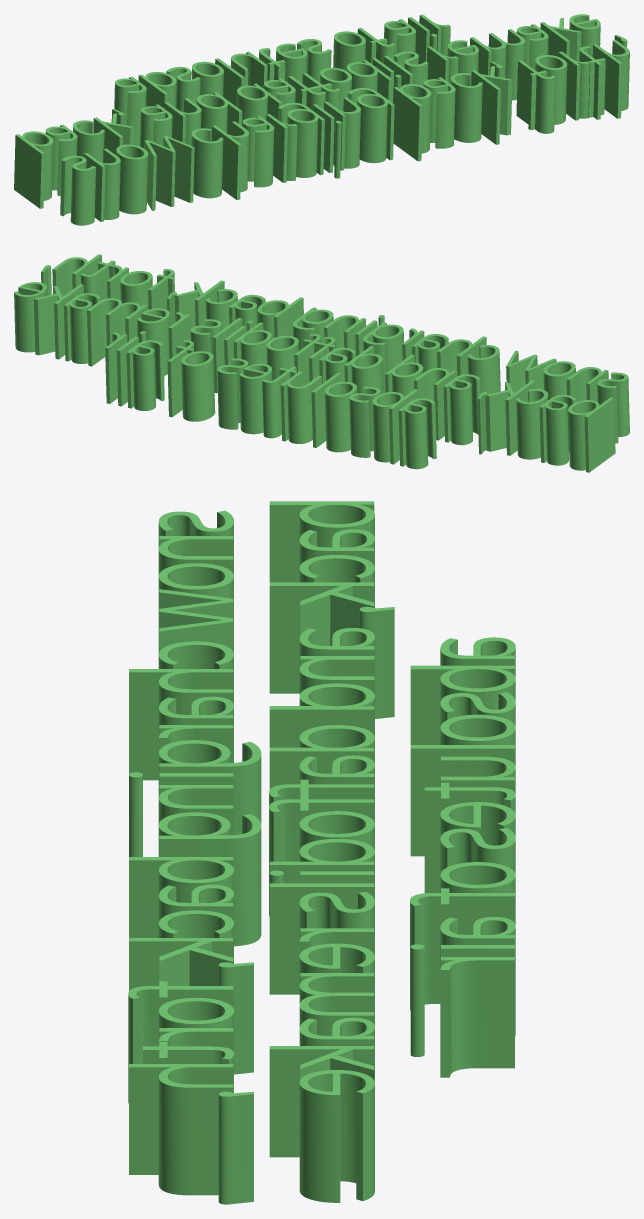
File: snowhaiku3.obj
3 views of the same model, one above another, from view 1: azimuth 30°, elevation 25°; view 2: azimuth 150°, elevation 25°; view 3: azimuth 270°, elevation 25° (orthographic). The views are drawn at different scales.
Parts seen in each view (by area): view 1: 040_w, 014_b, 049_b, 048_g, 054_f, 045_g, 037_s, 052_k, 039_o, 041_c, 042_h, 058_h (+45 smaller); view 2: 014_b, 000_a, 011_a, 033_m, 019_a, 009_o, 017_k, 005_u, 035_k, 001_b, 015_a, 003_o (+46 smaller); view 3: 058_h, 036_e, 013_r, 017_k, 048_g, 042_h, 035_k, 014_b, 001_b, 049_b, 010_f, 052_k (+48 smaller).
Part boxes in pixels (box(x1,y1,x2,y2)): 040_w: box(144, 136, 194, 210); 014_b: box(14, 131, 53, 208); 049_b: box(393, 84, 431, 161); 048_g: box(347, 88, 394, 163); 054_f: box(516, 60, 555, 133); 045_g: box(278, 102, 324, 177); 037_s: box(60, 155, 95, 225); 052_k: box(471, 66, 512, 144); 039_o: box(116, 144, 148, 214); 041_c: box(191, 128, 223, 198); 042_h: box(211, 121, 248, 199); 058_h: box(592, 40, 629, 118); 014_b: box(568, 397, 615, 472); 000_a: box(398, 398, 436, 469); 011_a: box(126, 340, 164, 410); 033_m: box(87, 298, 147, 366); 019_a: box(443, 374, 480, 445); 009_o: box(181, 351, 215, 421); 017_k: box(485, 380, 535, 455); 005_u: box(280, 371, 322, 443); 035_k: box(33, 284, 83, 359); 001_b: box(372, 389, 418, 464); 015_a: box(539, 394, 576, 465); 003_o: box(324, 381, 357, 452); 058_h: box(129, 1064, 233, 1195); 036_e: box(299, 1070, 374, 1202); 013_r: box(440, 957, 514, 1077); 017_k: box(269, 582, 374, 693); 048_g: box(158, 812, 261, 946); 042_h: box(129, 669, 233, 780); 035_k: box(269, 1046, 374, 1157); 014_b: box(269, 501, 374, 582); 001_b: box(410, 665, 515, 744); 049_b: box(129, 857, 233, 937); 010_f: box(410, 888, 514, 1010); 052_k: box(129, 938, 233, 990).
Size of the model in its own units: 143 by 17.13 by 41.69.
